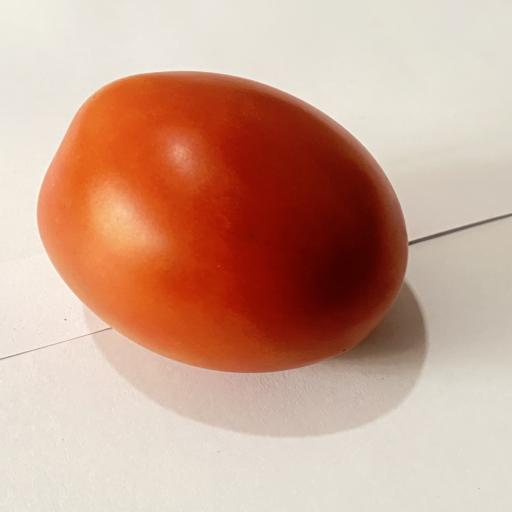ripe: (37, 71, 408, 372)
